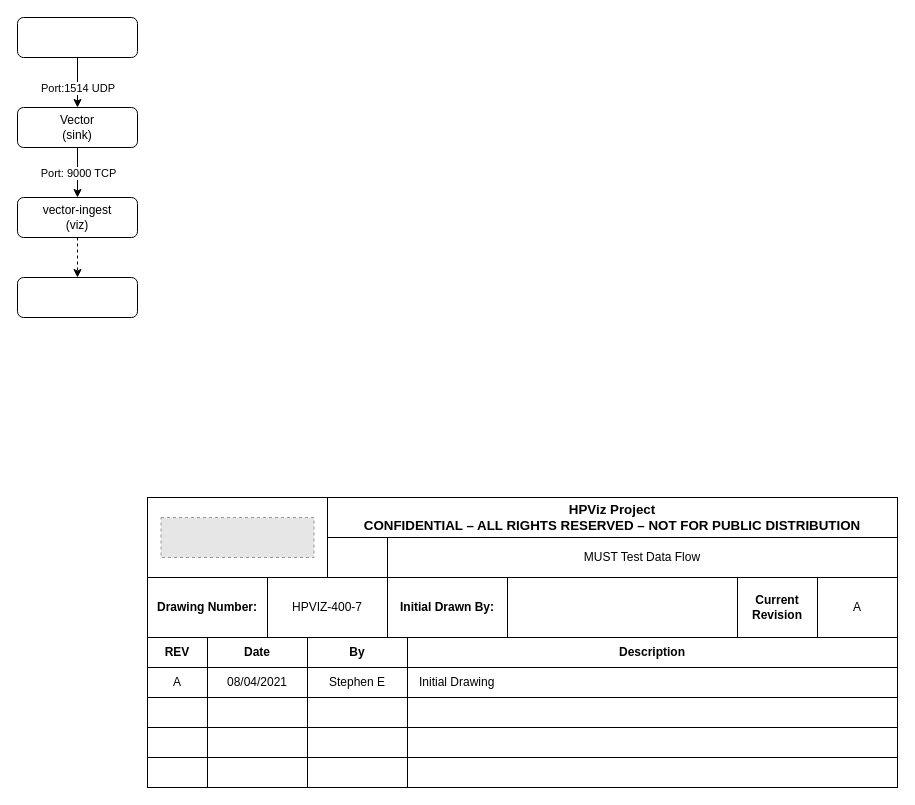
This 915x805 diagram has some shape labels left out. Grey dashed boxes stand in for pictures. The box of each missing label's shape, as (x1, y1, x2, y2) in pixels:
// Other Services //: (16, 276, 138, 318)
M.U.S.T.: (16, 16, 138, 58)
Stephen Eaton: (506, 576, 738, 638)
Title:: (326, 536, 388, 578)
